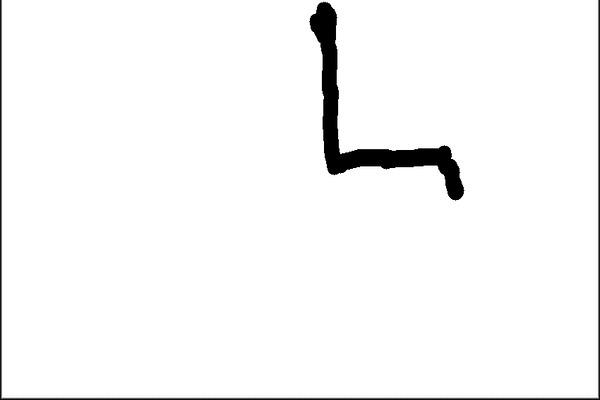L: (302, 0, 469, 212)
